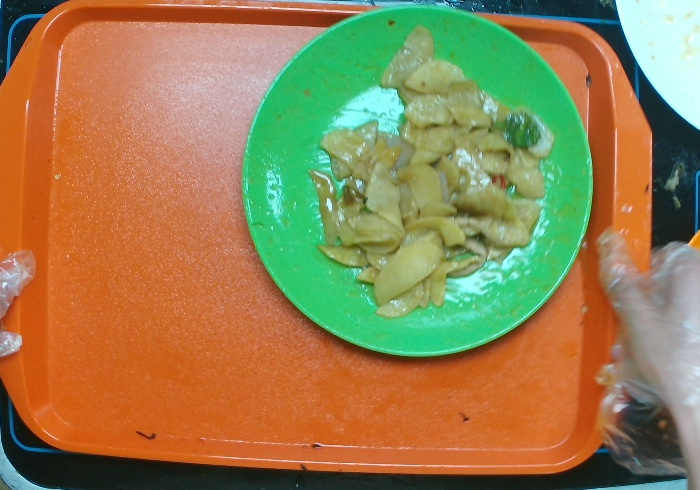HZYJPL-Lv_Se_Yuan_Pan: (226, 1, 604, 370)
